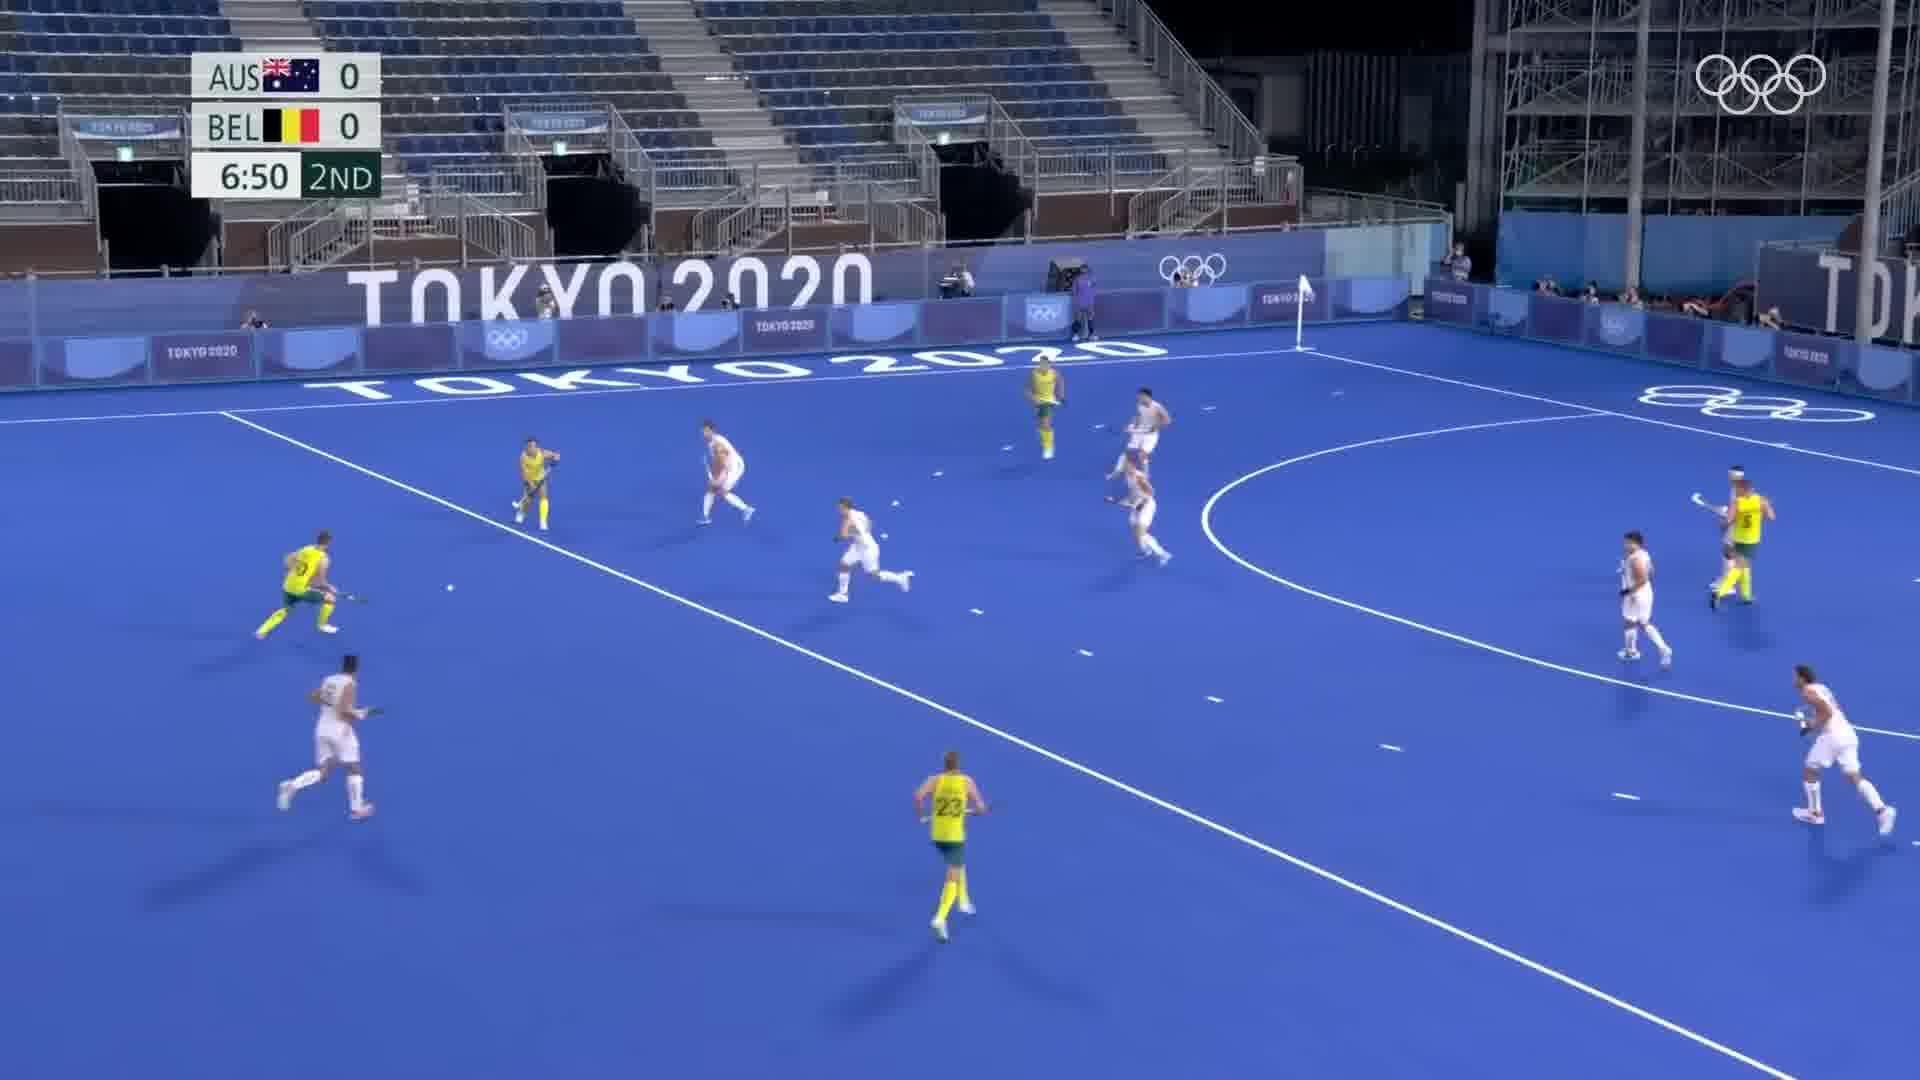ball: (442, 582, 460, 593)
